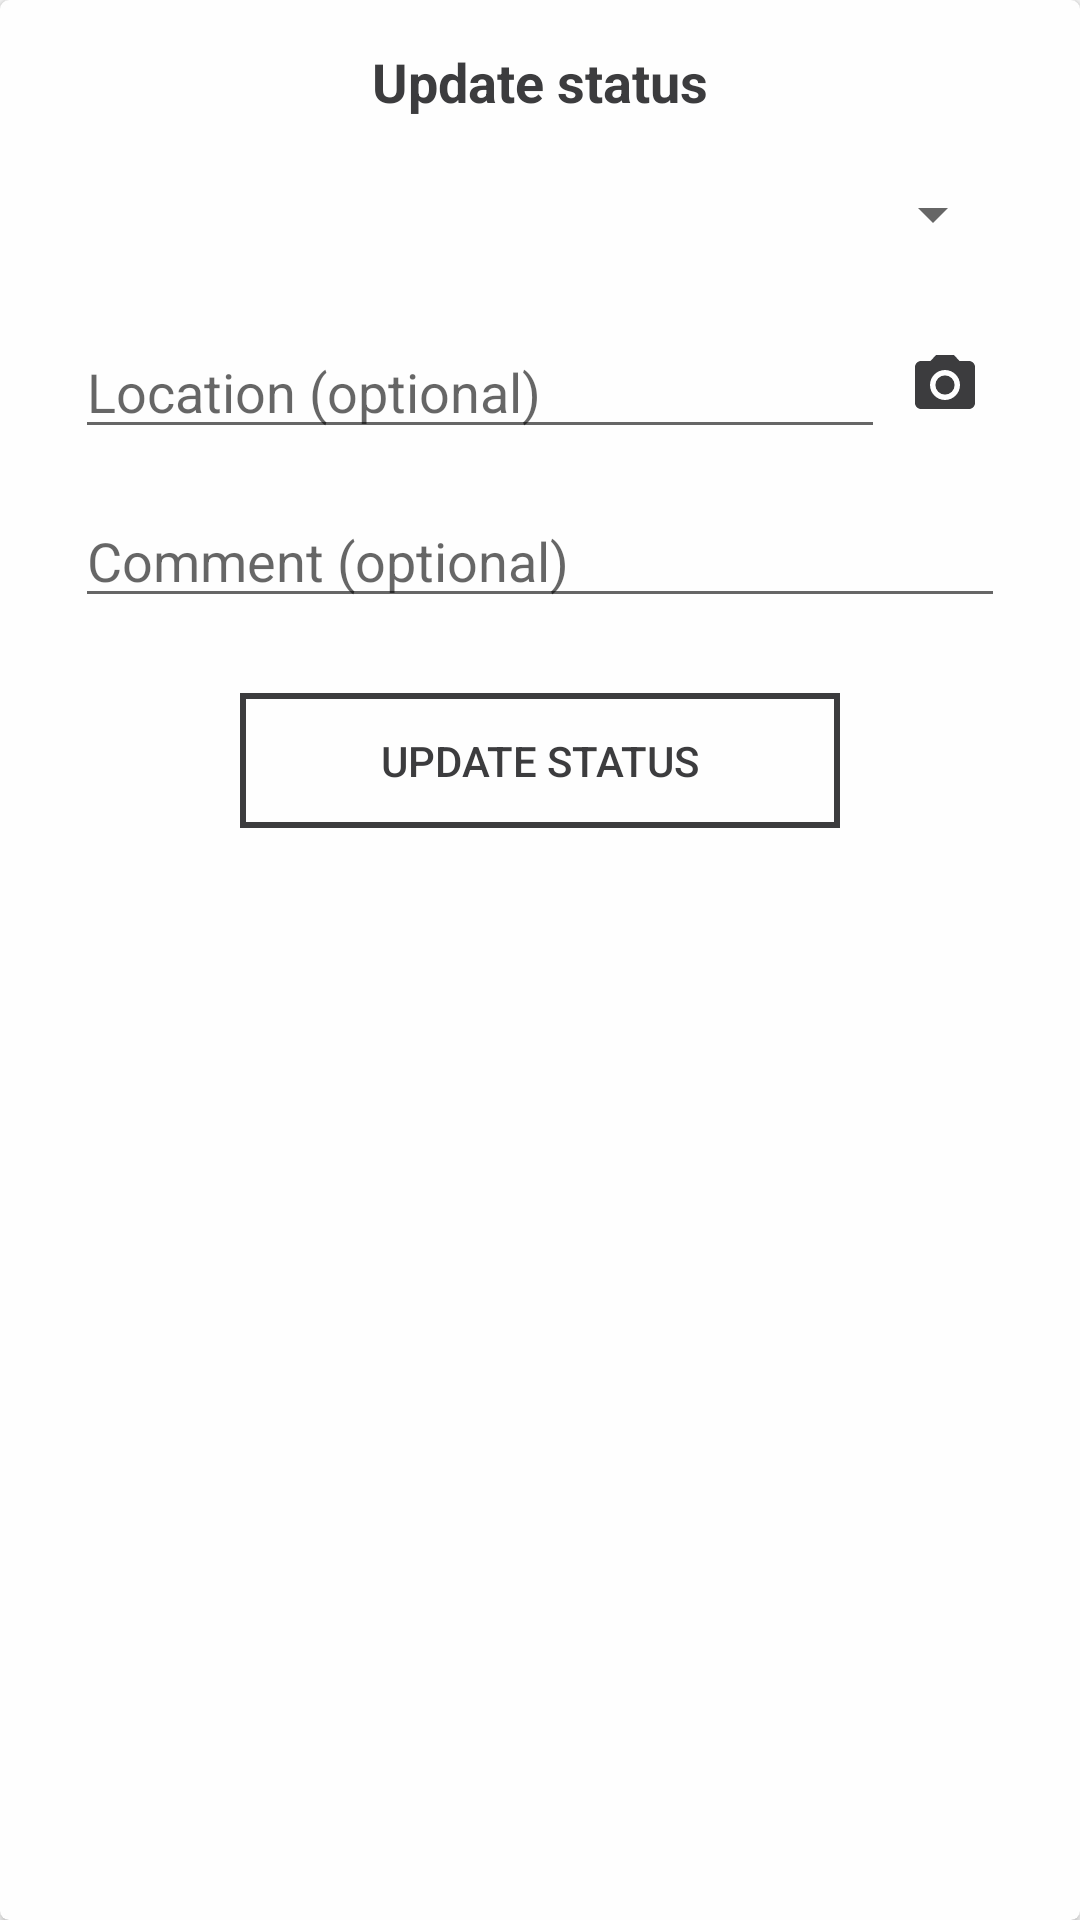

Icons on this 1080px×1920px Android screen, each with the point to tap as point (x, y):
Open camera to scan location barcode: point (945, 382)
